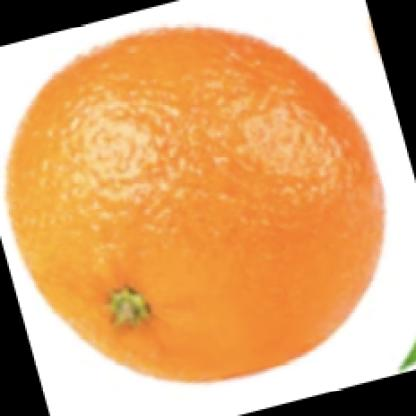fresh: (10, 27, 386, 379)
